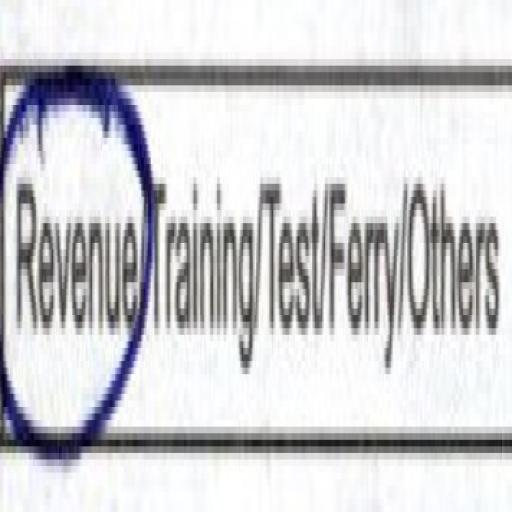check: (1, 5, 148, 477)
